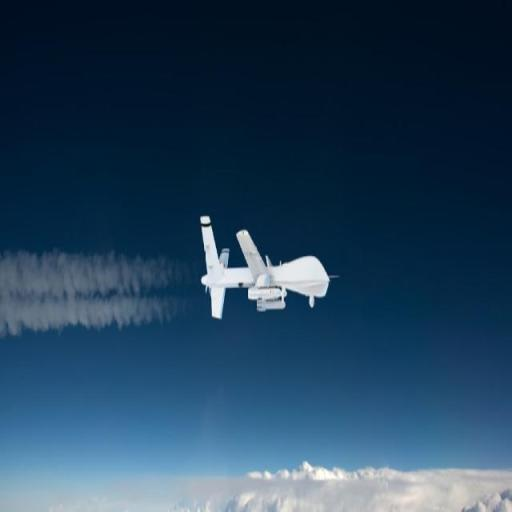uav: (196, 212, 343, 352)
